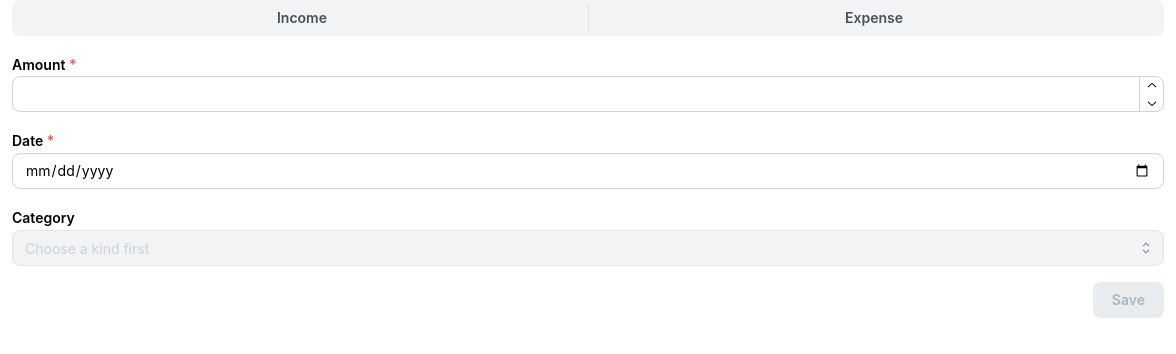
it: TransactionForm › reports a duplicate category inline
Click the text "Expense": (874, 18) [845, 9, 903, 26]
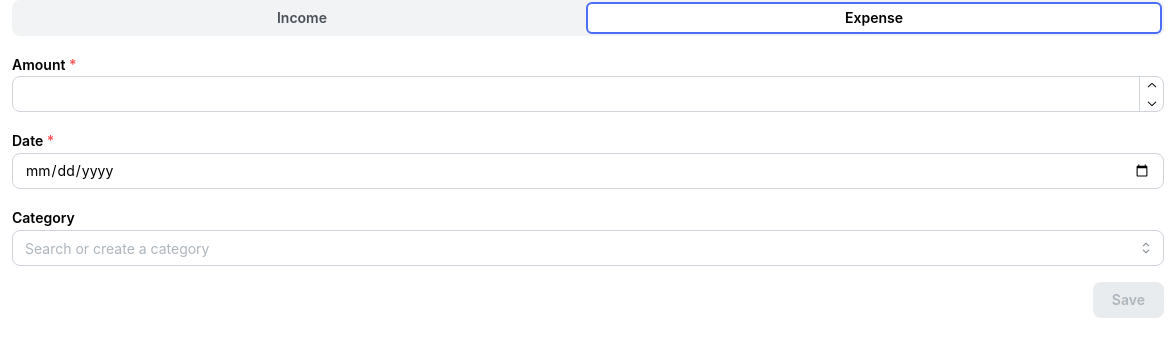
In the field labelled "Category": (588, 248) [12, 230, 1164, 266], type "Food"
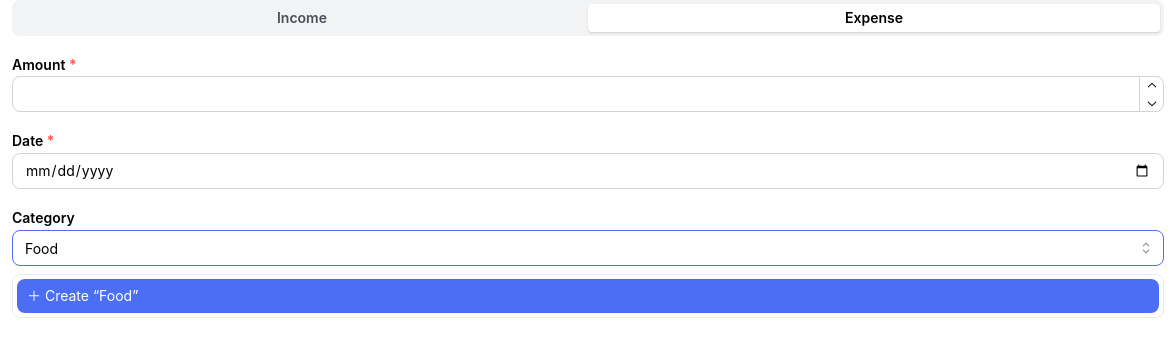
Press Enter in the field labelled "Category", box [12, 230, 1164, 266]
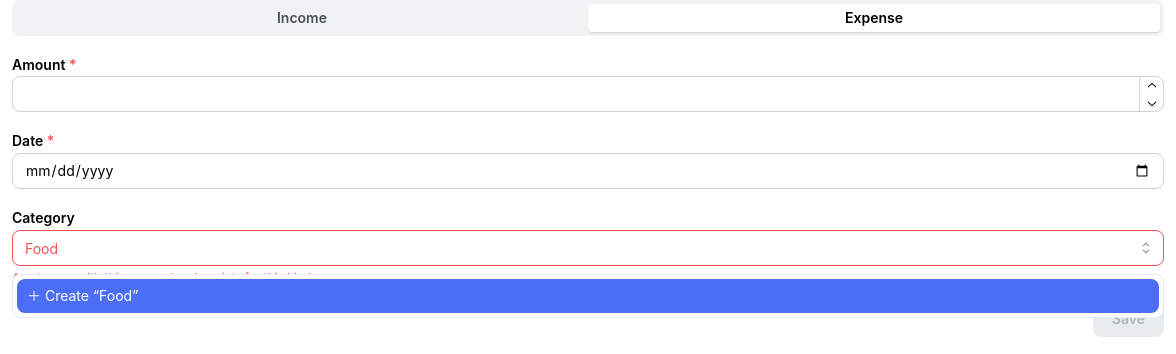
expect the text "A category with this name already exists for this kind" is shown: met, box [12, 270, 311, 285]
